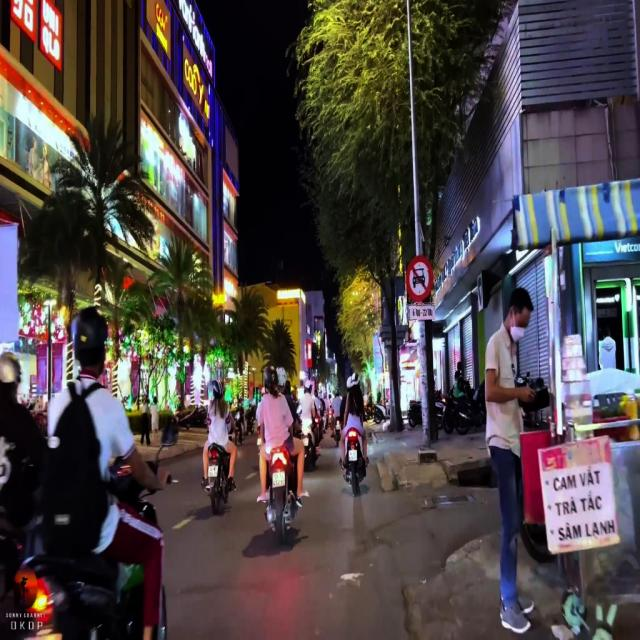cam_o_to: (407, 256, 433, 303)
khac: (408, 302, 435, 320)
